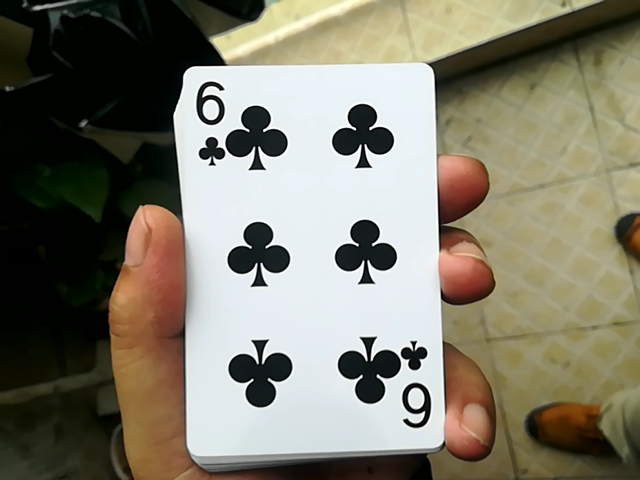mh 6: (160, 51, 448, 450)
